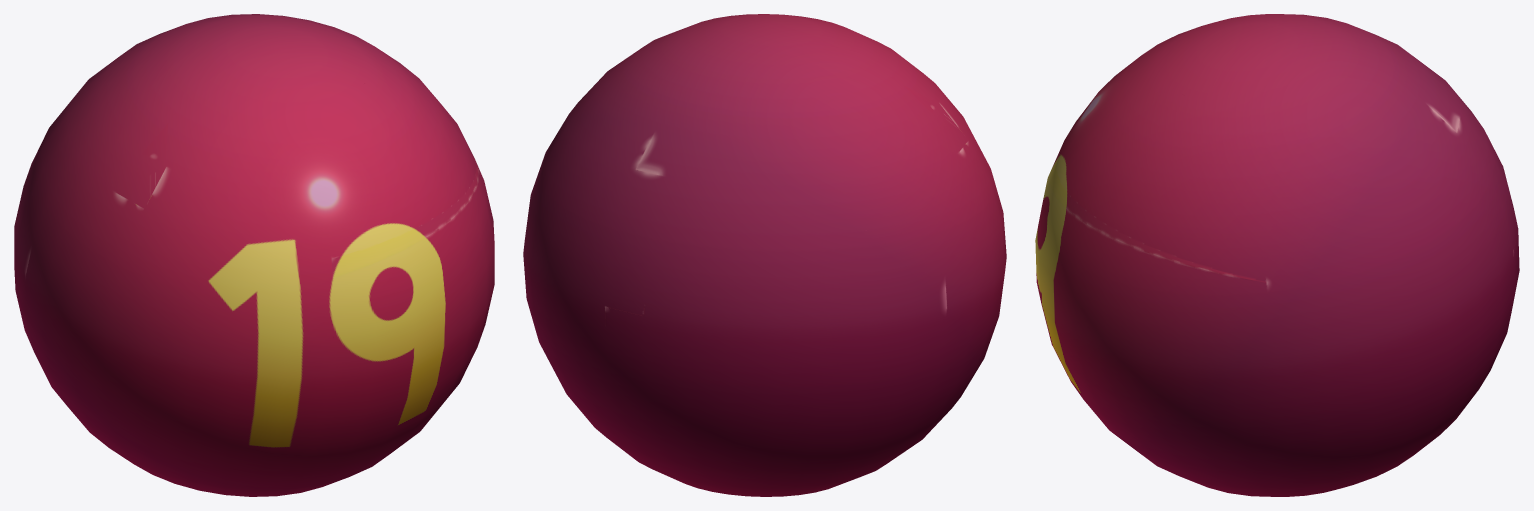
The model's file is Enemy 19.fbx.
3 renders of one model, left to right at view 1: azimuth 30°, elevation 25°; view 2: azimuth 150°, elevation 25°; view 3: azimuth 270°, elevation 25°, orthographic.
Visible parts, largest first — view 1: Body 1.018; view 2: Body 1.018; view 3: Body 1.018.
Part boxes in pixels (x1,y1,x2,y2): Body 1.018: [14, 14, 494, 496]; Body 1.018: [523, 14, 1006, 496]; Body 1.018: [1035, 14, 1519, 496].
Size of the model in its own units: 474 by 474 by 474.
1 material, 1 textured.
